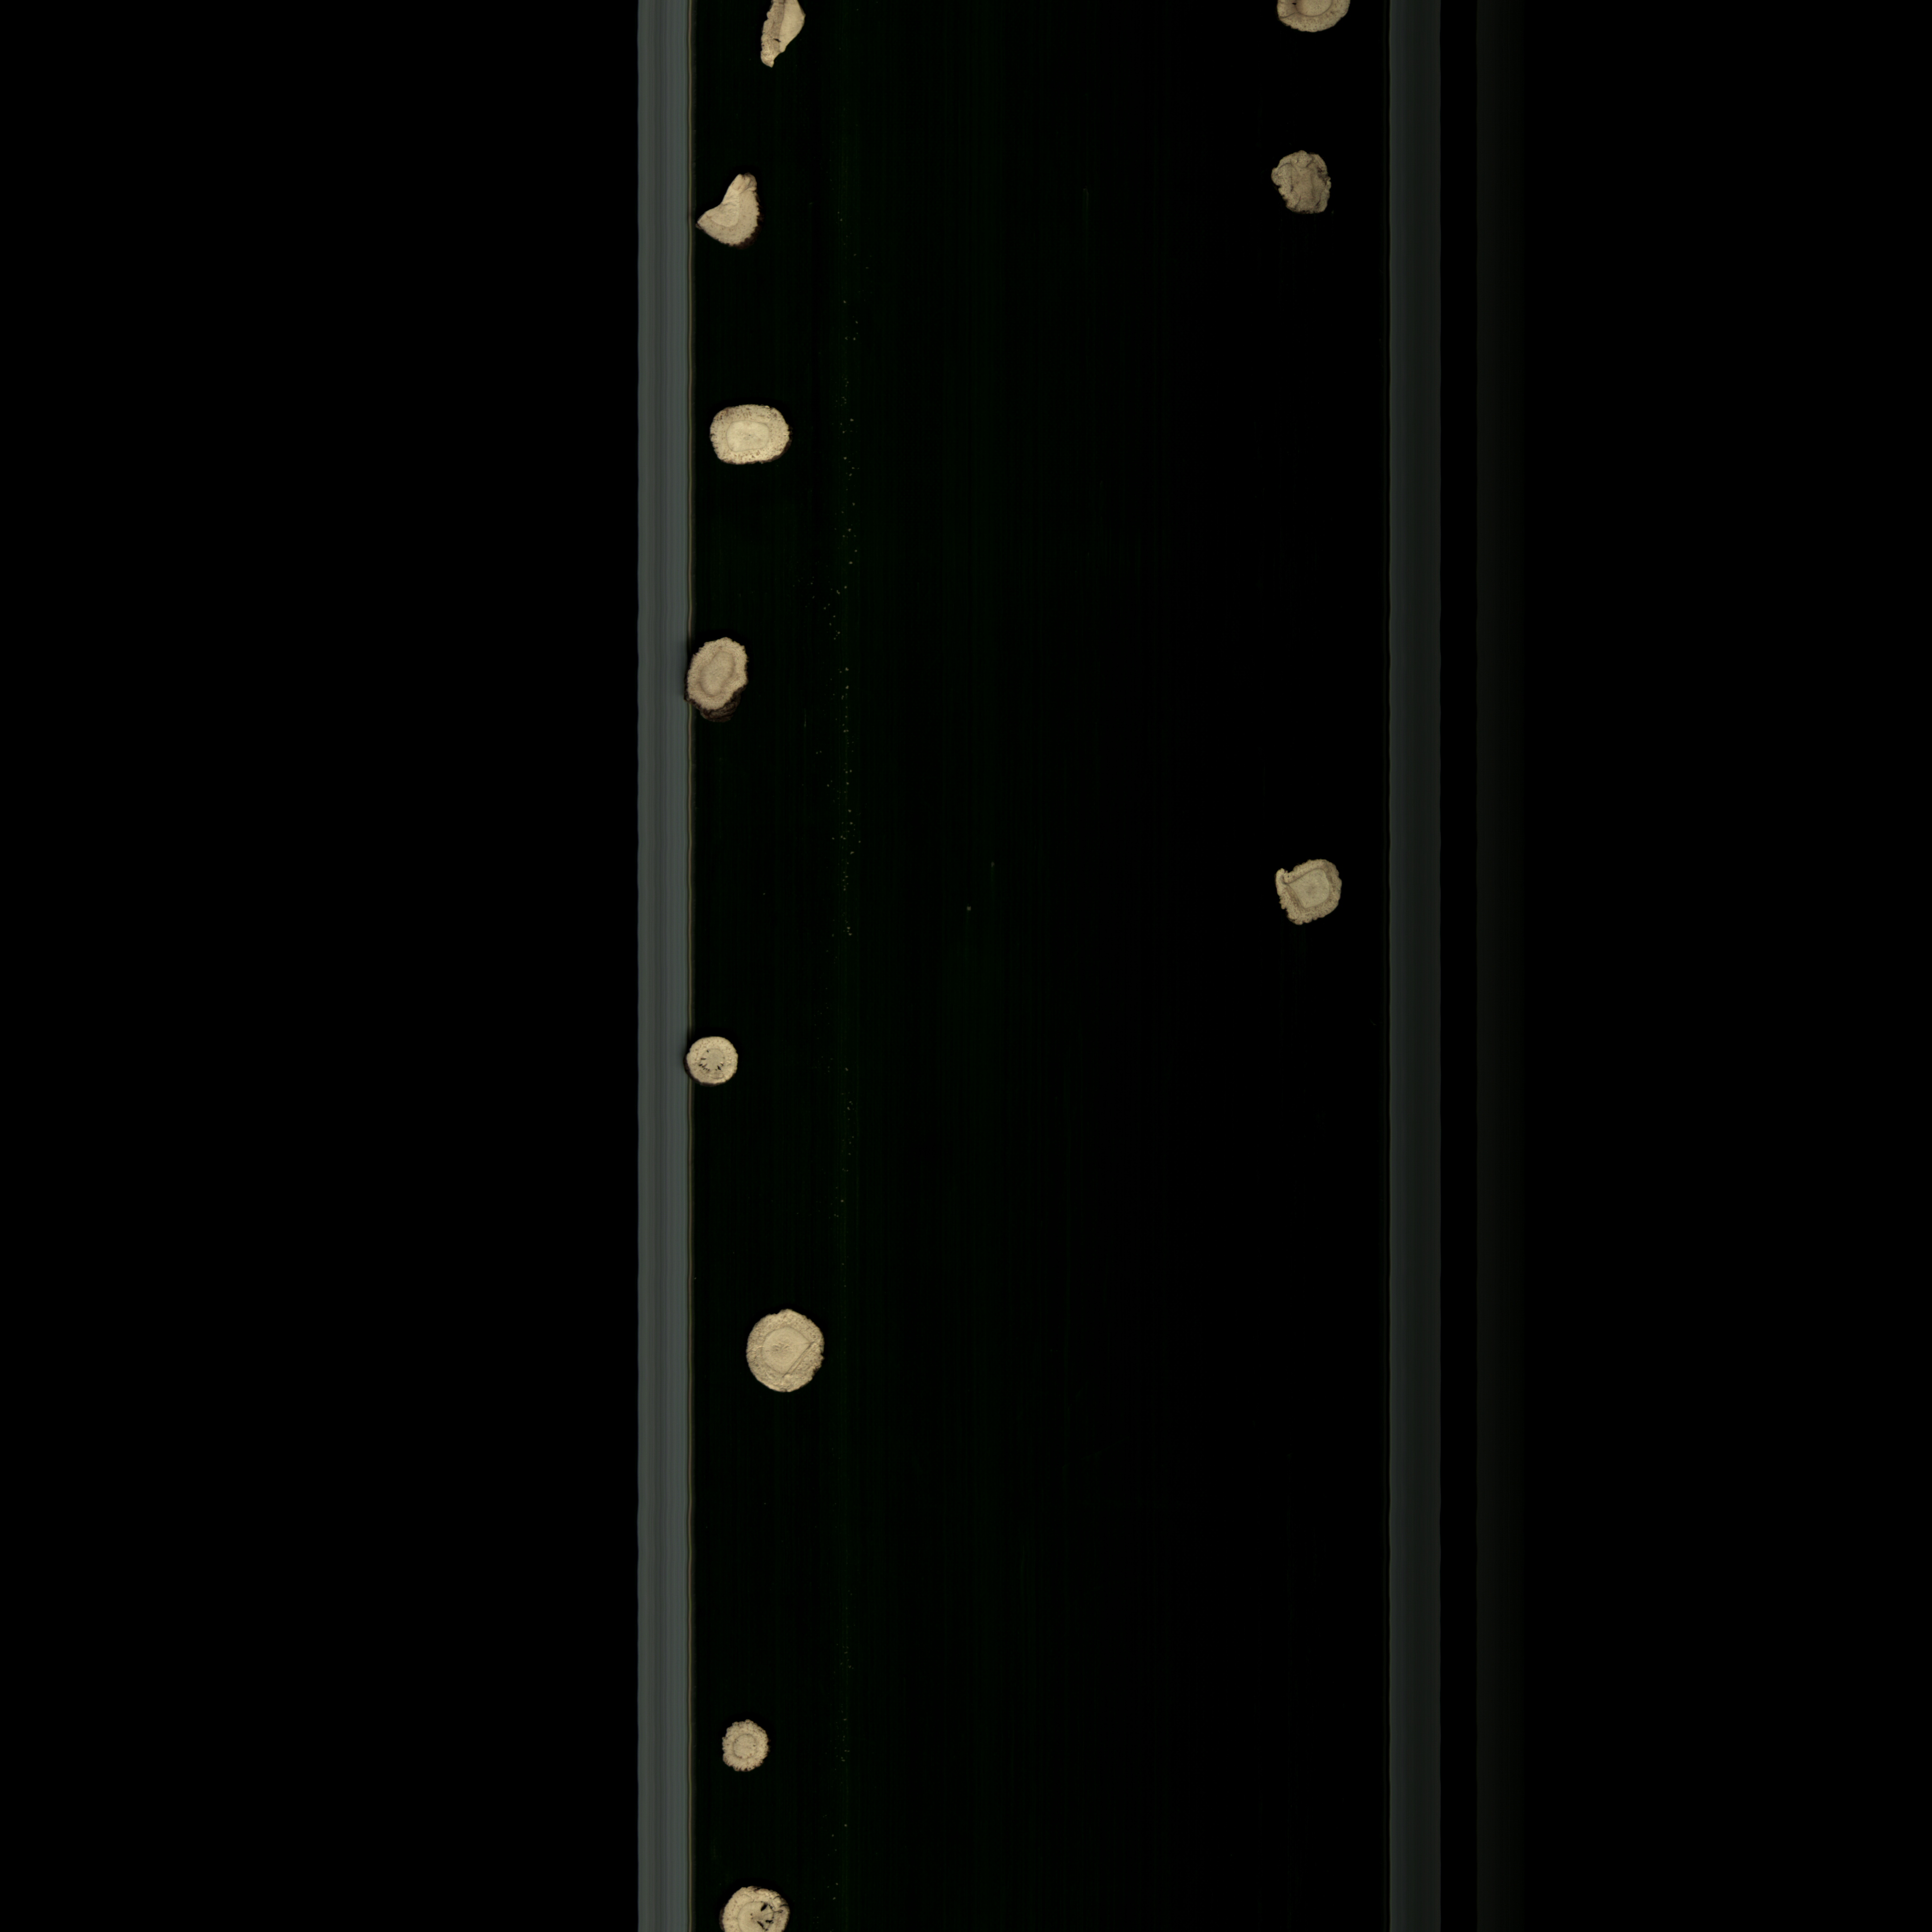debris: (695, 165, 773, 253), (1235, 0, 1364, 39), (759, 0, 816, 69)
distortion: (1261, 851, 1355, 932)
hole: (704, 1868, 809, 1932), (672, 1026, 750, 1093)
moldy: (1260, 145, 1346, 235)
